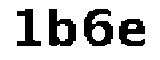1: (12, 5, 43, 49)
6: (79, 6, 114, 49)
b: (47, 3, 75, 51)
e: (117, 17, 146, 49)
